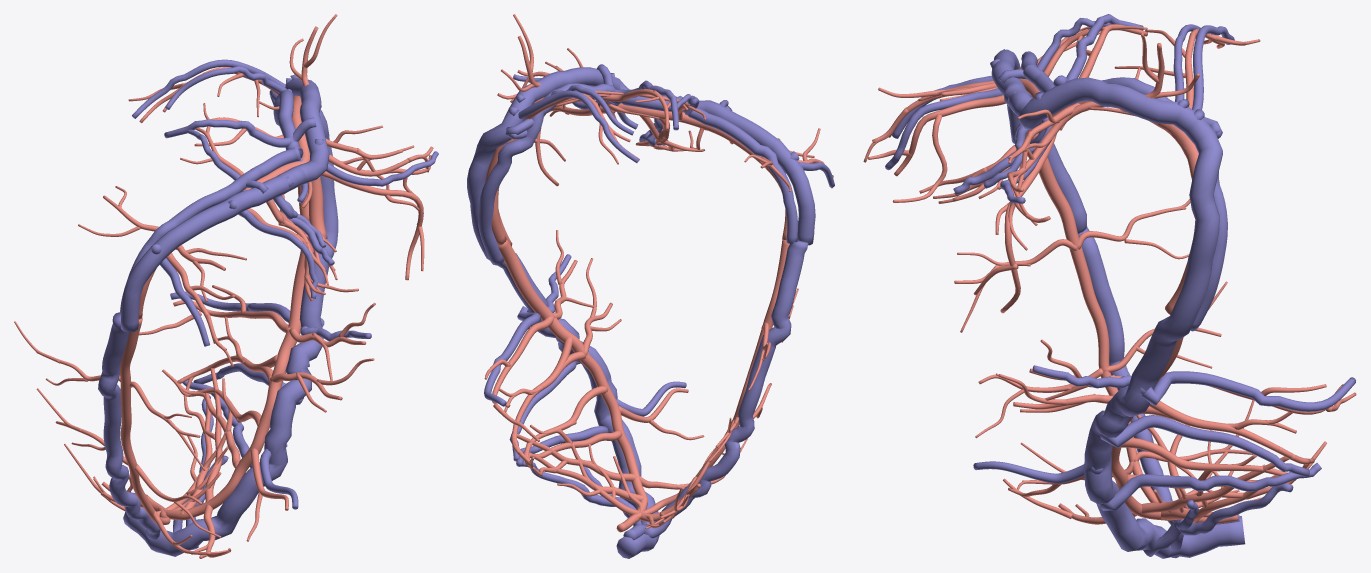
The model's file is vessels_1.glb.
3 views of the same model, side by side, from view 1: azimuth 30°, elevation 25°; view 2: azimuth 150°, elevation 25°; view 3: azimuth 270°, elevation 25° (orthographic). The views are drawn at different scales.
Parts seen in each view (by area): view 1: Renderer Node; view 2: Renderer Node; view 3: Renderer Node.
Boxes of the visible parts, left/top/right/bottom form: Renderer Node: left=14, top=14, right=438, bottom=558; Renderer Node: left=467, top=14, right=834, bottom=558; Renderer Node: left=863, top=14, right=1356, bottom=558.
Bounding box in the file's own units: 89.2 × 124 × 90.35.
